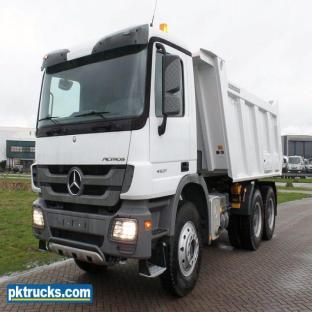Vehicle: (29, 42, 296, 287)
